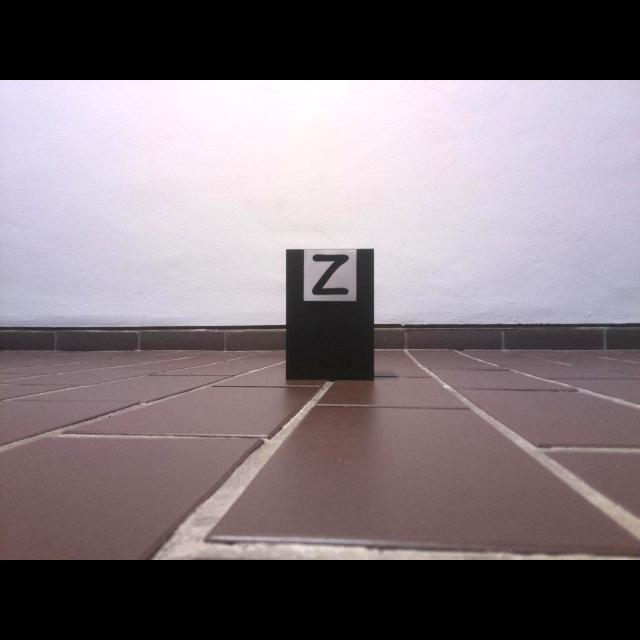Z: (312, 255, 349, 295)
